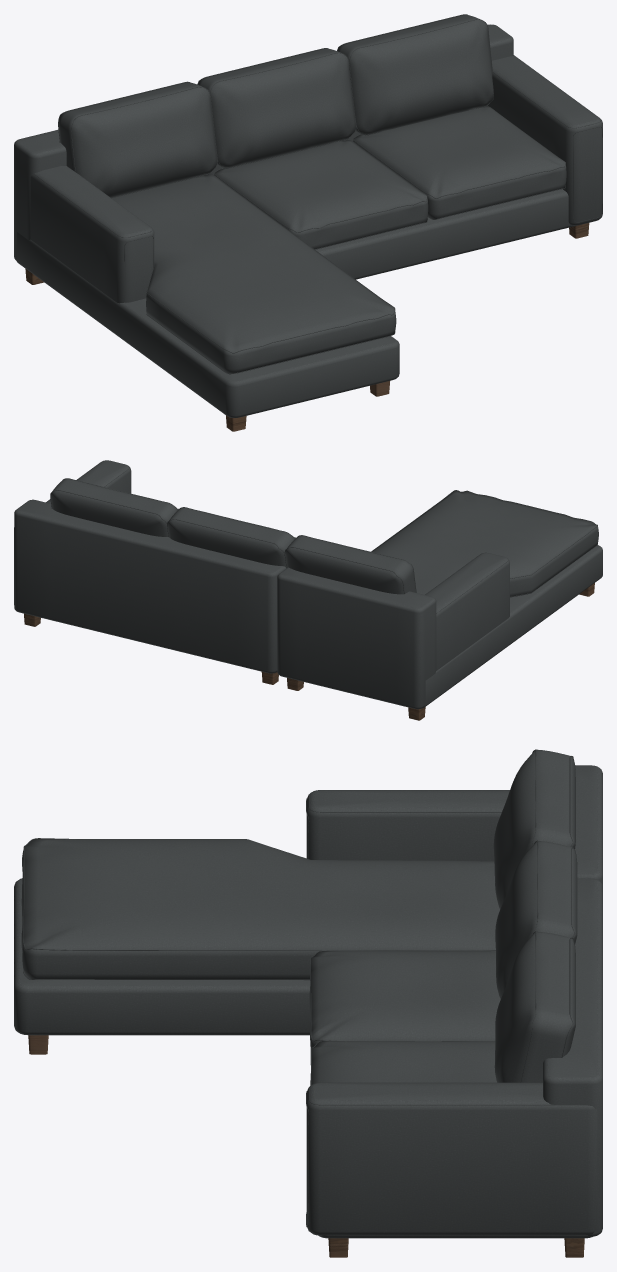
File: sofa-sectional-rebuilt.glb
3 renders of one model, top to bottom at view 1: azimuth 30°, elevation 25°; view 2: azimuth 150°, elevation 25°; view 3: azimuth 270°, elevation 25°, orthographic. The views are drawn at different scales.
Parts seen in each view (by area): view 1: sofa-sectional-rebuilt soft-grey-chenille, sofa-sectional-rebuilt seam, sofa-sectional-rebuilt walnut; view 2: sofa-sectional-rebuilt soft-grey-chenille, sofa-sectional-rebuilt seam, sofa-sectional-rebuilt walnut; view 3: sofa-sectional-rebuilt soft-grey-chenille, sofa-sectional-rebuilt seam, sofa-sectional-rebuilt walnut.
Part boxes in pixels (x1,y1,x2,y2): sofa-sectional-rebuilt soft-grey-chenille: (14,14,602,417); sofa-sectional-rebuilt seam: (34,14,602,374); sofa-sectional-rebuilt walnut: (25,223,589,431); sofa-sectional-rebuilt soft-grey-chenille: (14,460,602,709); sofa-sectional-rebuilt seam: (47,462,597,613); sofa-sectional-rebuilt walnut: (24,583,594,720); sofa-sectional-rebuilt soft-grey-chenille: (14,749,602,1238); sofa-sectional-rebuilt seam: (23,749,575,1227); sofa-sectional-rebuilt walnut: (28,1035,584,1257).
Bounding box in the file's own units: 2.8 × 0.93 × 2.2.
Materials: 3 (3 with a texture image).
